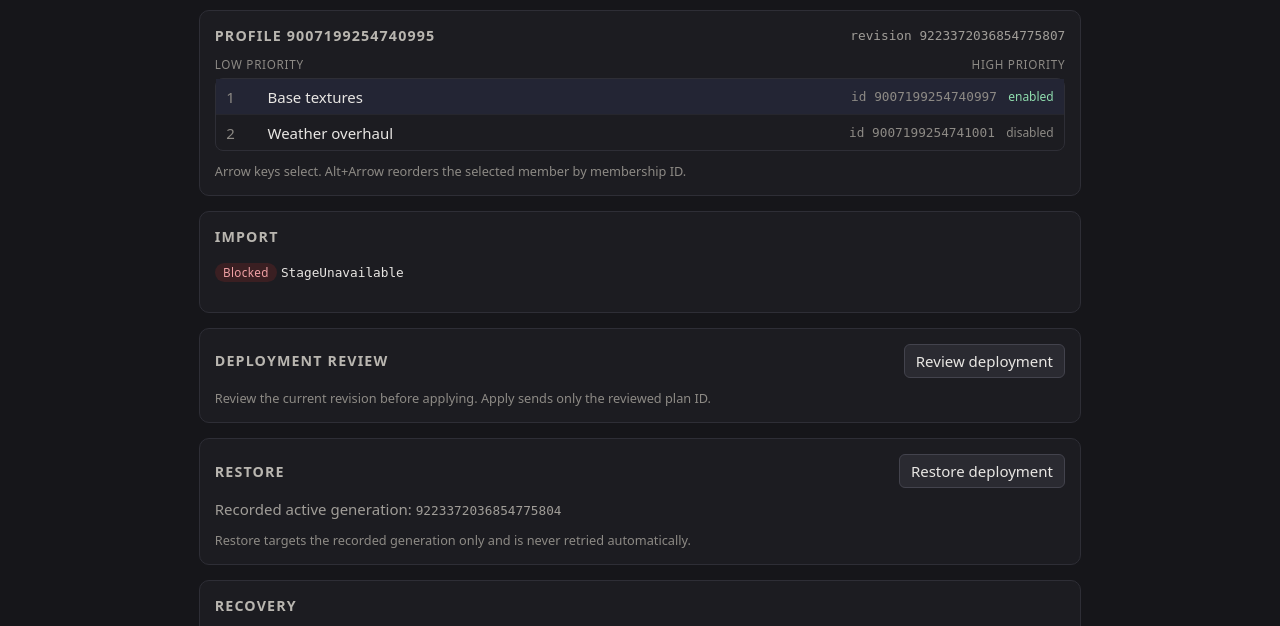
workspace shell › reports an Ok Apply result that is still running as pending, not accepted
(page scrolled)
expect the text "revision 9223372036854775807" is shown: met, box [850,28,1065,43]
Click the button "Review deployment" at coordinates (984, 361), box [904,344,1065,378]
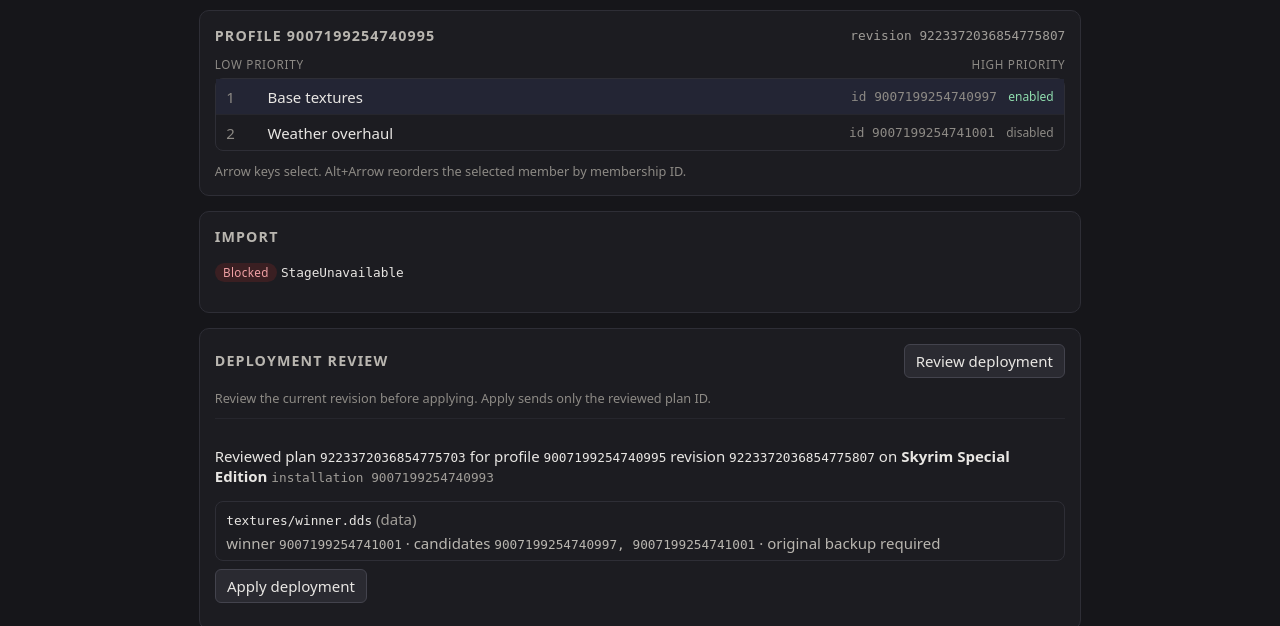
Click the button "Apply deployment" at coordinates (291, 586), box [215,569,367,603]
(page scrolled)
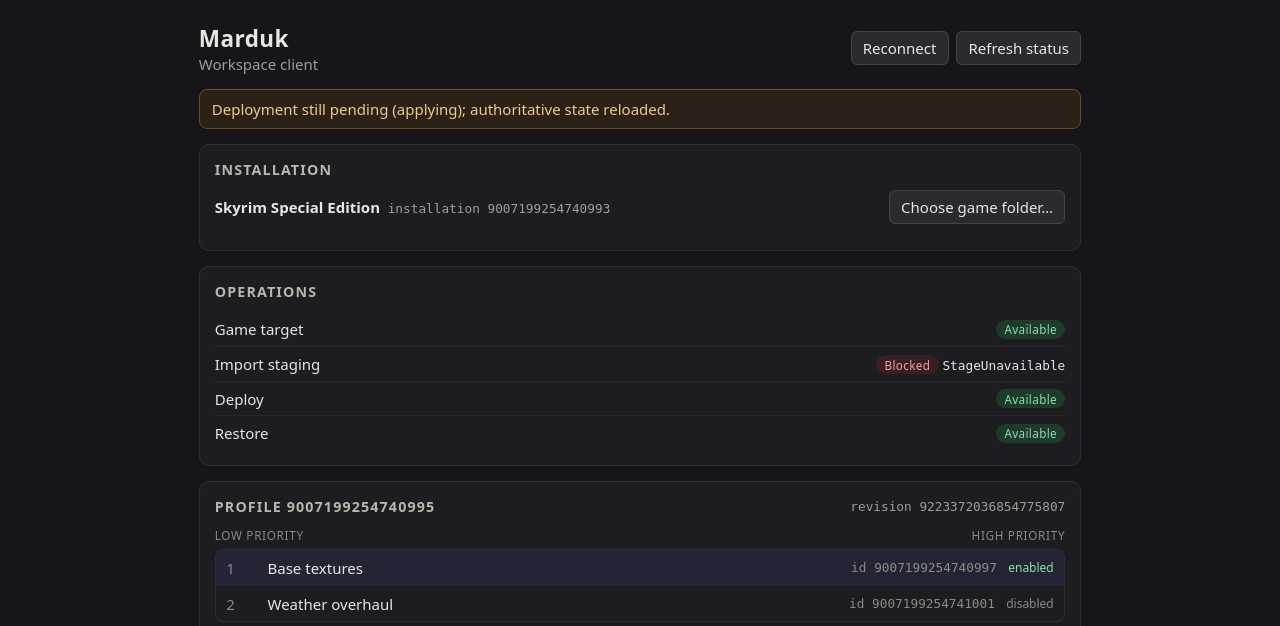
expect the message shows "Deployment still pending (applying)": met, box [212,98,670,118]
